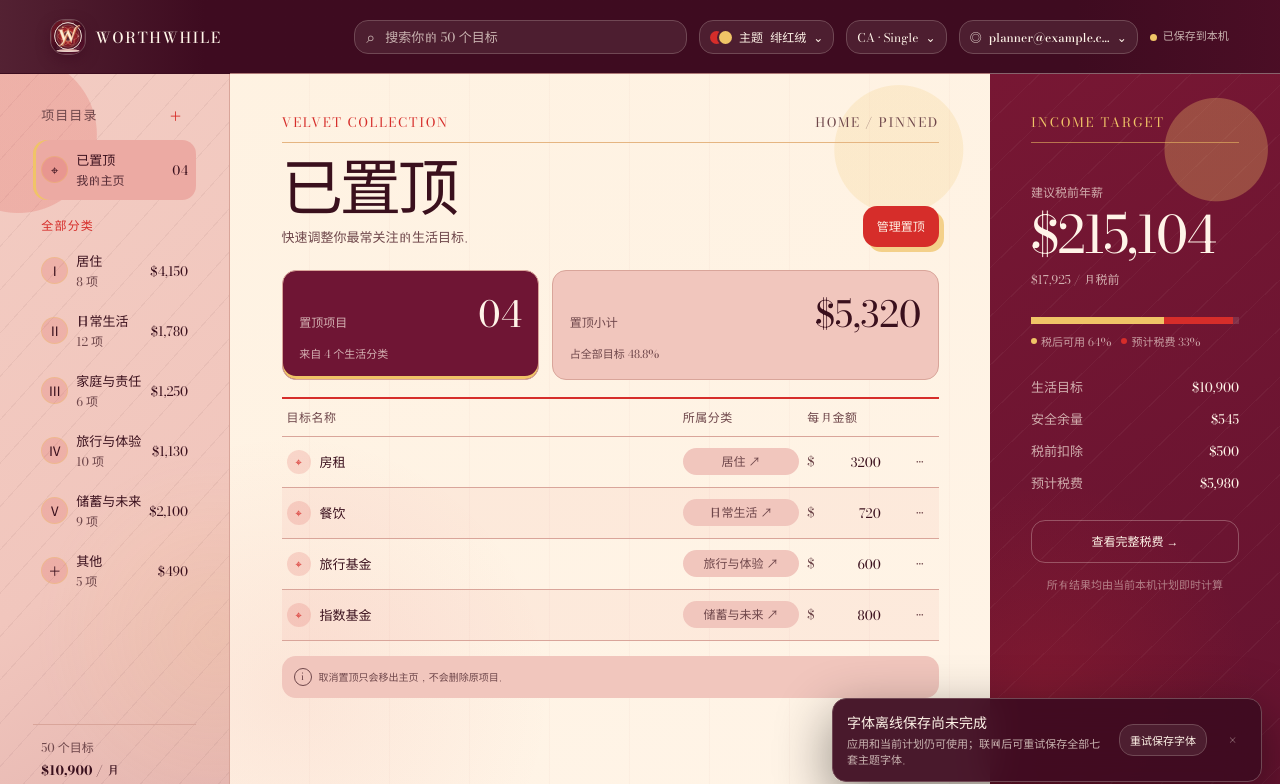
local-first planner › keeps a valid account cache usable while reporting corrupt cloud data
Expected: the heading "已置顶" is shown, [282,161,477,217]
Click the button "◎ planner@example.com ⌄" at (1048, 37), box [959,20,1138,54]
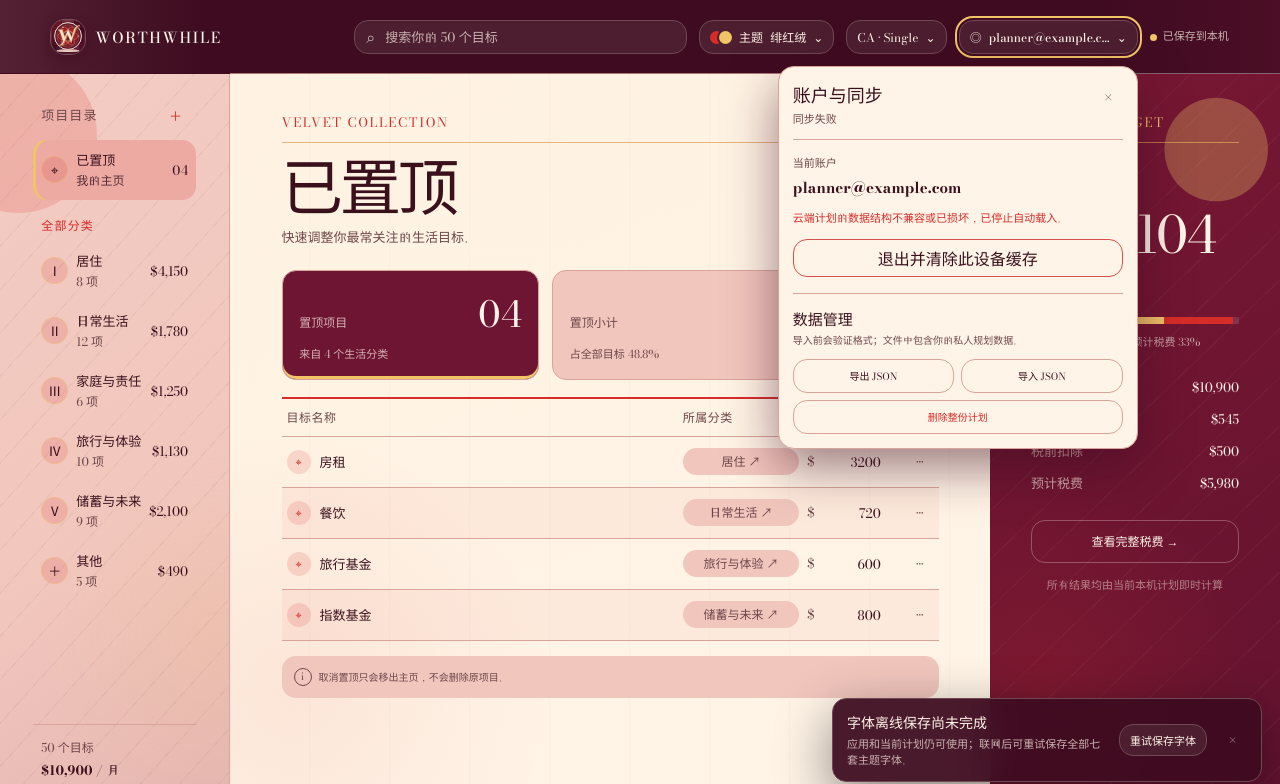
Now the text "同步失败" is shown, box [793,111,837,127]
Now the text "云端计划的数据结构不兼容或已损坏，已停止自动载入。" is shown, box [793,210,1069,226]
